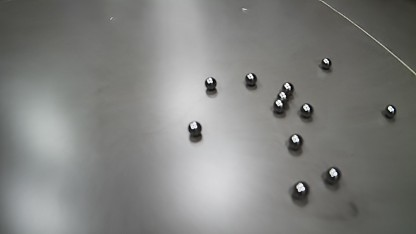ironball: (291, 181, 309, 199), (323, 167, 341, 184), (288, 133, 303, 150), (188, 121, 202, 136), (300, 103, 313, 118), (281, 82, 294, 96), (273, 99, 285, 113), (383, 104, 395, 118), (245, 73, 257, 86), (205, 77, 217, 90), (320, 57, 331, 69)
